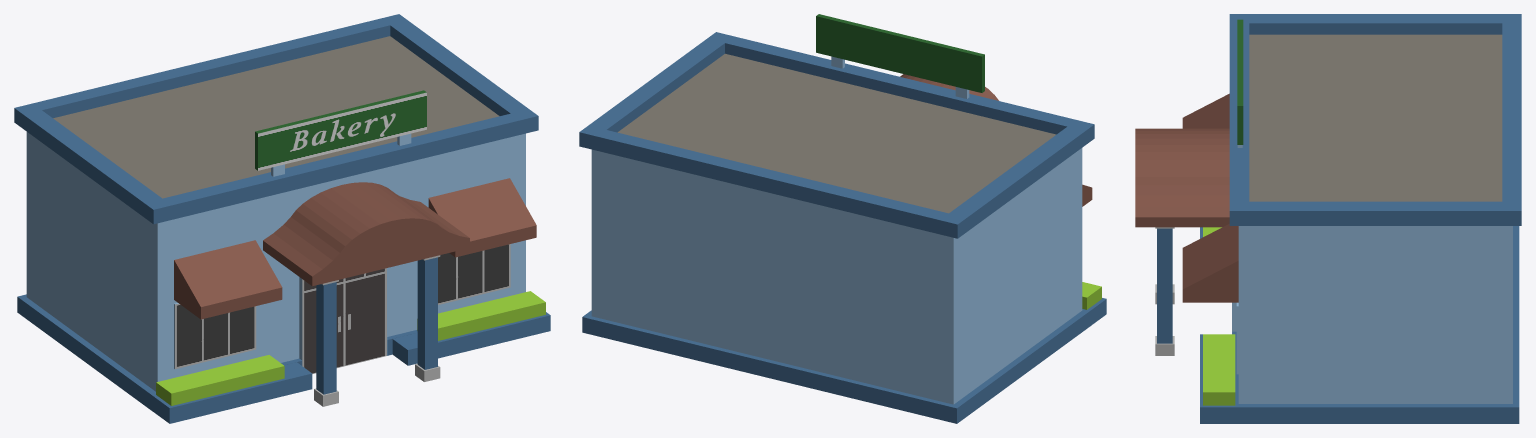
The model's file is Building_Bakery.glb.
3 views of the same model, side by side, from view 1: azimuth 30°, elevation 25°; view 2: azimuth 150°, elevation 25°; view 3: azimuth 270°, elevation 25° (orthographic). The views are drawn at different scales.
Parts seen in each view (by area): view 1: Building_Bakery; view 2: Building_Bakery; view 3: Building_Bakery.
Part boxes in pixels (left/top/right/bottom): Building_Bakery: left=14, top=14, right=550, bottom=423; Building_Bakery: left=579, top=14, right=1106, bottom=423; Building_Bakery: left=1135, top=14, right=1521, bottom=423.
Size of the model in its own units: 13.59 by 8.48 by 11.28.
Materials: 1 (1 with a texture image).
